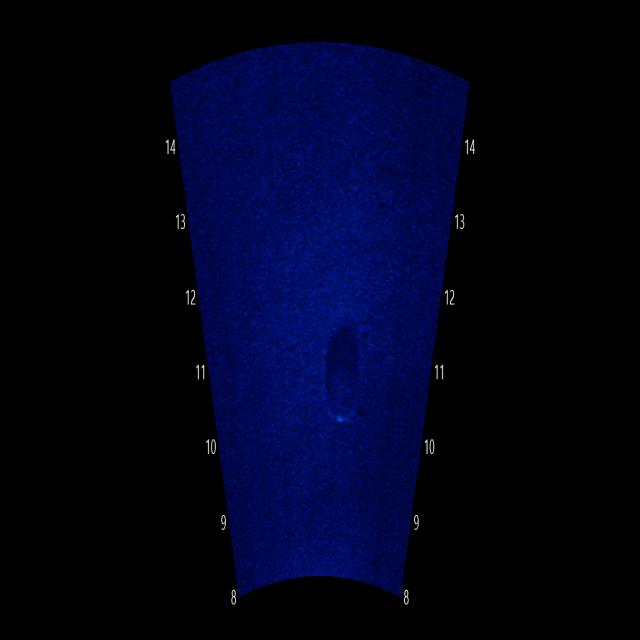circle: (316, 326, 366, 437), (366, 149, 413, 238)
